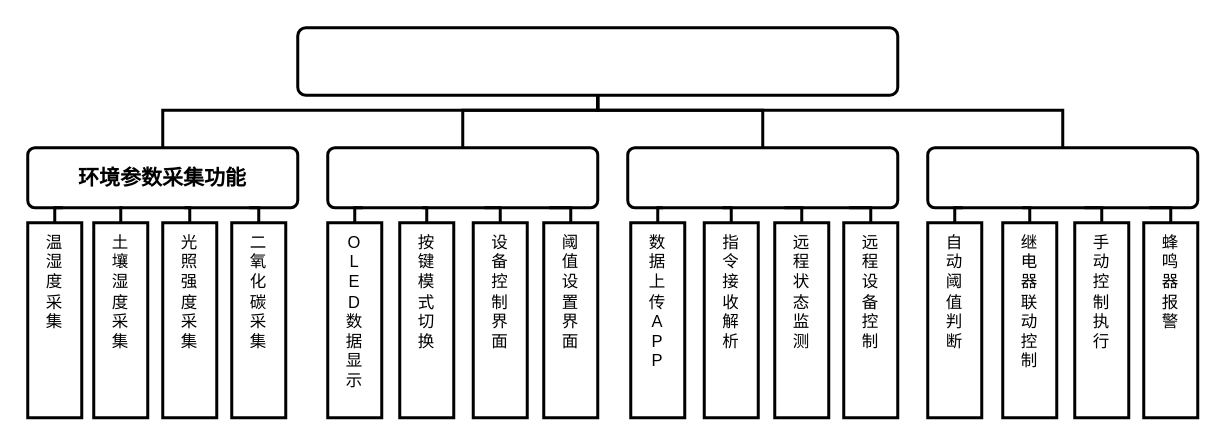
This 1224x444 diagram has some shape labels left out. Each missing label, with the box of its shape:
无线通信功能: (626, 146, 898, 208)
智能控制与报警功能: (926, 146, 1198, 208)
智能温室农业大棚系统: (296, 26, 898, 96)
本地显示与交互功能: (326, 146, 598, 208)
